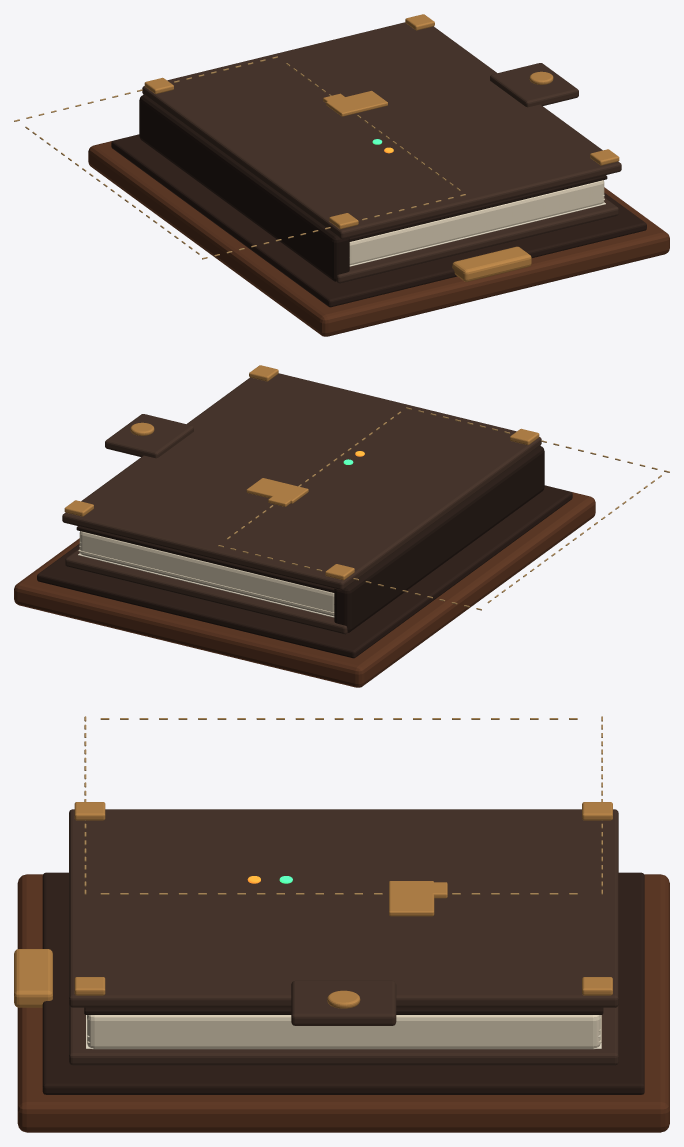
Rendered from executive-project-folder.glb.
The picture shows the model from 3 angles, top to bottom: view 1: azimuth 30°, elevation 25°; view 2: azimuth 150°, elevation 25°; view 3: azimuth 270°, elevation 25°; orthographic projection. The views are drawn at different scales.
Parts seen in each view (by area): view 1: Front_Cover, Walnut_Dock, Dock_Inset, Spine, Page_Block, Back_Cover, Leather_Strap, Bottom_Handle, Page_Shadow, Folder_Icon_Base, Visible_Paper_Layer_1; view 2: Front_Cover, Walnut_Dock, Dock_Inset, Spine, Page_Block, Back_Cover, Leather_Strap, Page_Shadow, Folder_Icon_Base, Visible_Paper_Layer_1; view 3: Front_Cover, Walnut_Dock, Dock_Inset, Page_Block, Back_Cover, Leather_Strap, Page_Shadow, Bottom_Handle, Folder_Icon_Base.
Boxes of the visible parts, x1,y1,x2,y2 form: Front_Cover: [142, 22, 621, 239]; Walnut_Dock: [88, 141, 669, 336]; Dock_Inset: [111, 134, 646, 307]; Spine: [139, 94, 349, 281]; Page_Block: [349, 180, 604, 265]; Back_Cover: [336, 198, 618, 283]; Leather_Strap: [490, 63, 578, 107]; Bottom_Handle: [452, 246, 531, 281]; Page_Shadow: [349, 175, 607, 241]; Folder_Icon_Base: [326, 90, 387, 116]; Visible_Paper_Layer_1: [349, 202, 605, 266]; Front_Cover: [62, 373, 541, 590]; Walnut_Dock: [14, 492, 595, 687]; Dock_Inset: [37, 485, 572, 658]; Spine: [334, 445, 544, 632]; Page_Block: [79, 531, 334, 616]; Back_Cover: [65, 549, 347, 634]; Leather_Strap: [105, 414, 193, 458]; Page_Shadow: [76, 526, 334, 592]; Folder_Icon_Base: [246, 478, 308, 503]; Visible_Paper_Layer_1: [78, 553, 334, 617]; Front_Cover: [69, 809, 618, 1007]; Walnut_Dock: [17, 874, 669, 1132]; Dock_Inset: [42, 872, 644, 1094]; Page_Block: [87, 1015, 600, 1049]; Back_Cover: [69, 1005, 618, 1065]; Leather_Strap: [291, 980, 396, 1025]; Page_Shadow: [84, 1007, 603, 1014]; Bottom_Handle: [14, 949, 52, 1007]; Folder_Icon_Base: [389, 881, 434, 916].
Size of the model in its own units: 6.75 by 1.35 by 6.16.
